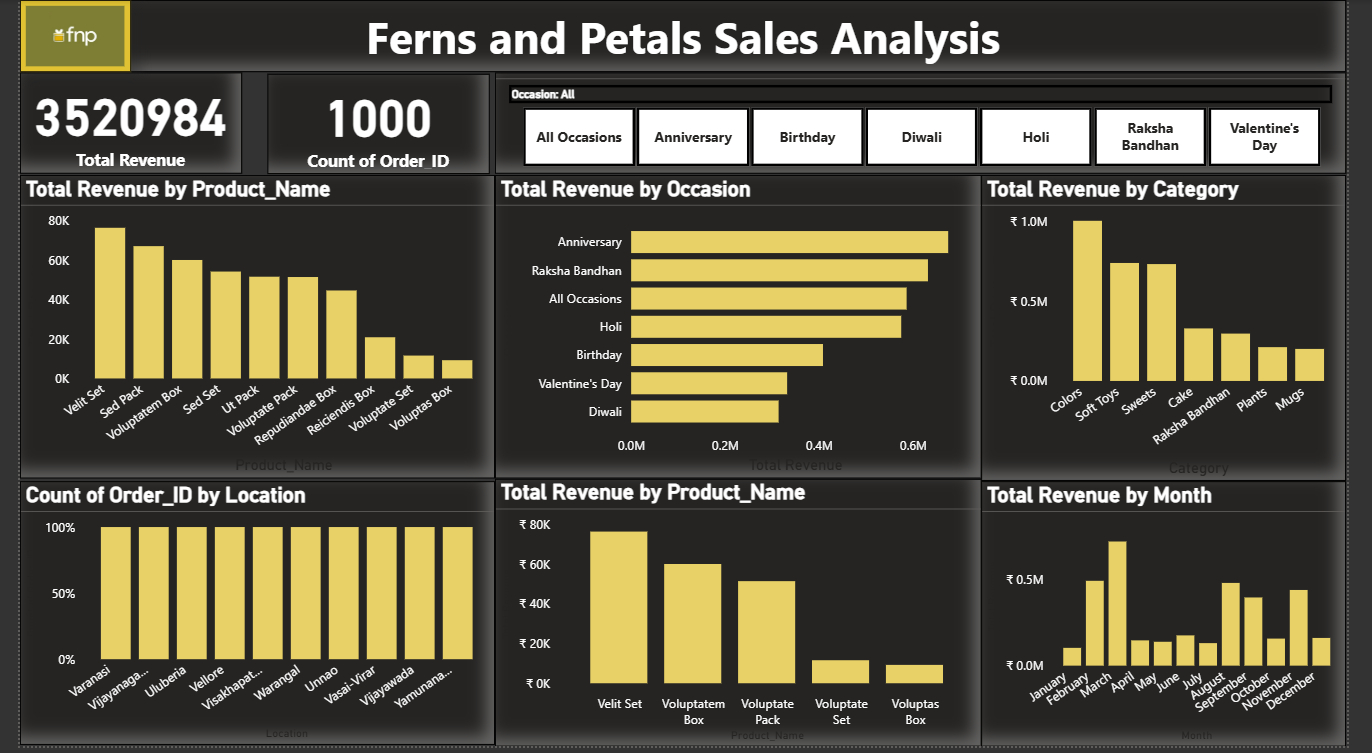

This screenshot's page, from the dashboard's own definition file:
{"tool":"powerbi","page":{"name":"Page 1","canvas":[1280,720],"ordinal":0},"visuals":[{"type":"textbox","box":[0,0,1280.3,70],"z":0},{"type":"card","title":"Total Revene","fields":{"Values":["products.Revenue"]},"box":[0,70,214.1,97.4],"z":1000},{"type":"columnChart","fields":{"Category":["products.Product_Name"],"Y":["products.Total Revenue"]},"box":[0,168.9,458.4,293.2],"z":2000},{"type":"hundredPercentStackedColumnChart","fields":{"Category":["orders.Location"],"Y":["CountNonNull(orders.Order_ID)"]},"box":[0,464.5,458.4,254.6],"z":3000},{"type":"barChart","fields":{"Category":["orders.Occasion"],"Y":["products.Total Revenue"]},"box":[458.4,168.9,469.3,293.2],"z":4000},{"type":"columnChart","fields":{"Category":["products.Product_Name"],"Y":["products.Total Revenue"]},"box":[458.4,462.1,469.3,258.2],"z":5000},{"type":"columnChart","fields":{"Y":["products.Total Revenue"],"Category":["products.Category"]},"box":[927.8,168.9,352.3,295.6],"z":6000},{"type":"columnChart","fields":{"Y":["products.Total Revenue"],"Category":["orders.Delivery_Date.Variation.Date Hierarchy.Month"]},"box":[927.8,464.5,352.3,255.8],"z":7000},{"type":"slicer","fields":{"Values":["products.Occasion"]},"box":[458.4,70,821.6,97.7],"z":8000},{"type":"card","title":"Total Revene","fields":{"Values":["CountNonNull(orders.Order_ID)"]},"box":[238.6,71.4,214.3,97.1],"z":9000},{"type":"image","box":[0,0,107.4,70],"z":10000}]}

Visuals, with their boxes in screenshot pixels (x1, y1, x2, y2), scaled from the page's 1280x720 canvas onto the 1372x753 screenshot:
textbox: 0, 0, 1371, 73
"Total Revene" card: 0, 73, 229, 175
columnChart - products.Product_Name x products.Total Revenue: 0, 177, 491, 483
hundredPercentStackedColumnChart - orders.Location x CountNonNull(orders.Order_ID): 0, 486, 491, 752
barChart - orders.Occasion x products.Total Revenue: 491, 177, 994, 483
columnChart - products.Product_Name x products.Total Revenue: 491, 483, 994, 752
columnChart - products.Total Revenue x products.Category: 994, 177, 1371, 486
columnChart - products.Total Revenue x orders.Delivery_Date.Variation.Date Hierarchy.Month: 994, 486, 1371, 752
slicer - products.Occasion: 491, 73, 1371, 175
"Total Revene" card: 256, 75, 485, 176
image: 0, 0, 115, 73
